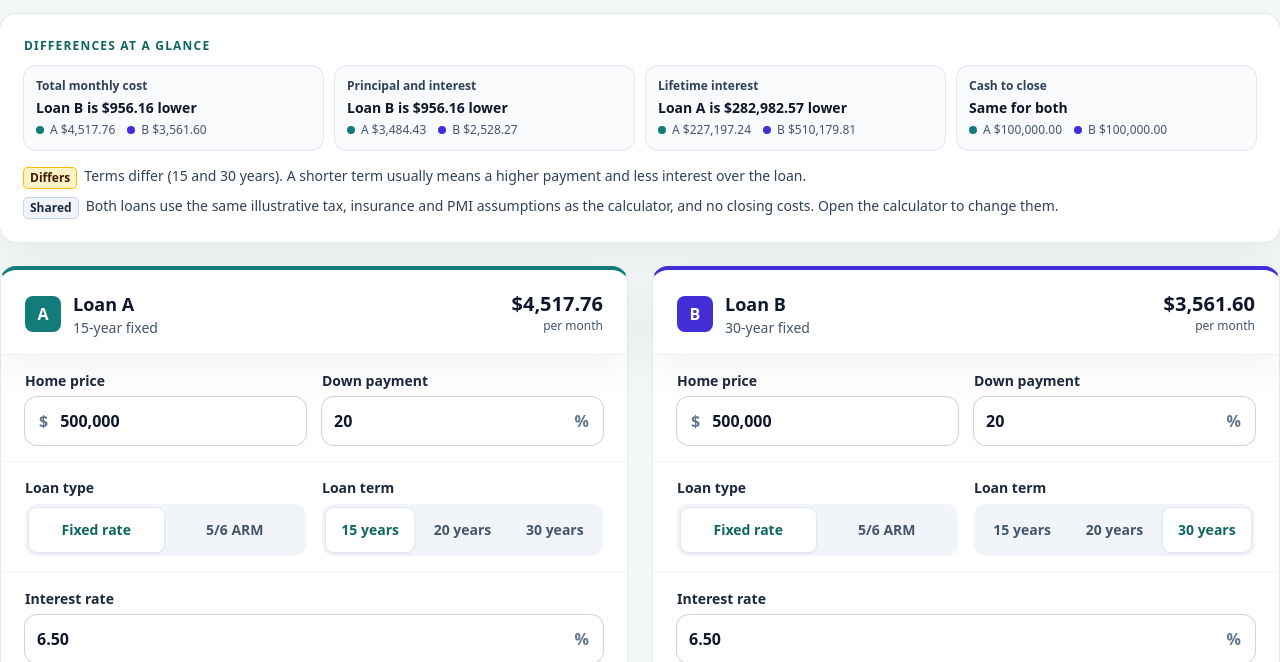
Test: CompareView › shows one loan's field error without touching the other
Replace the text in the field labelled "Interest rate" below "30-year fixed" with "abc". click: (952, 639)
box: left=677, top=619, right=1227, bottom=659
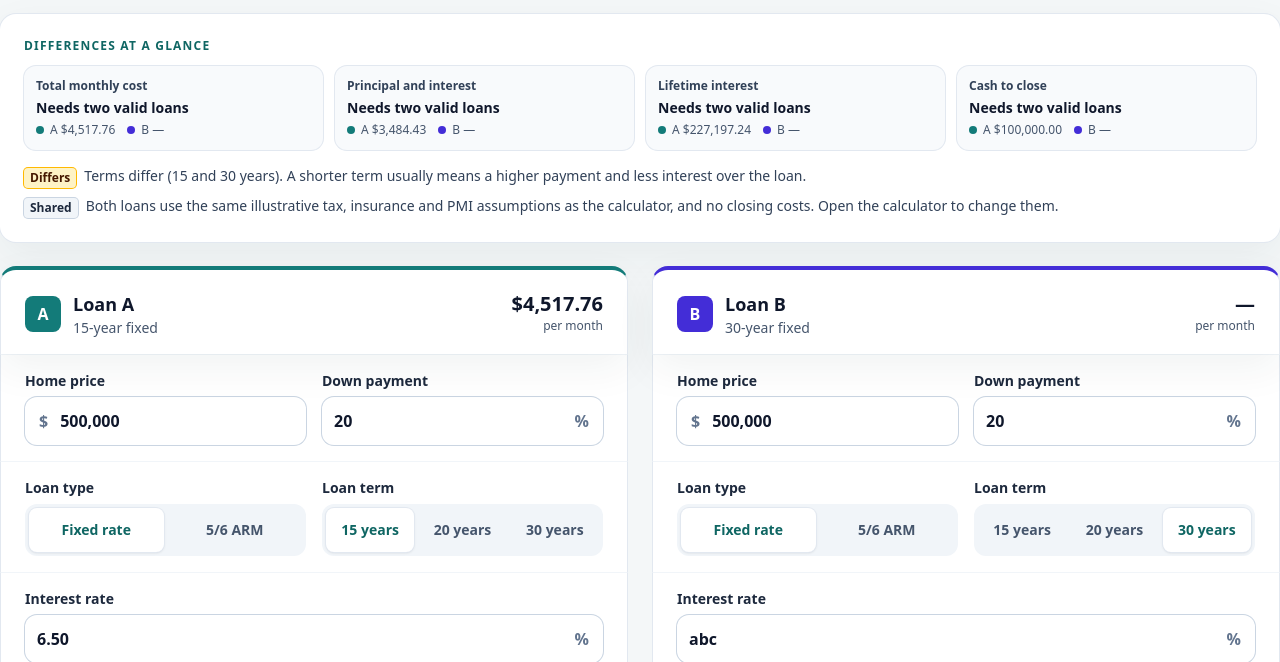
Leave the field labelled "Interest rate" below "30-year fixed", box left=677, top=619, right=1227, bottom=659
(page scrolled)
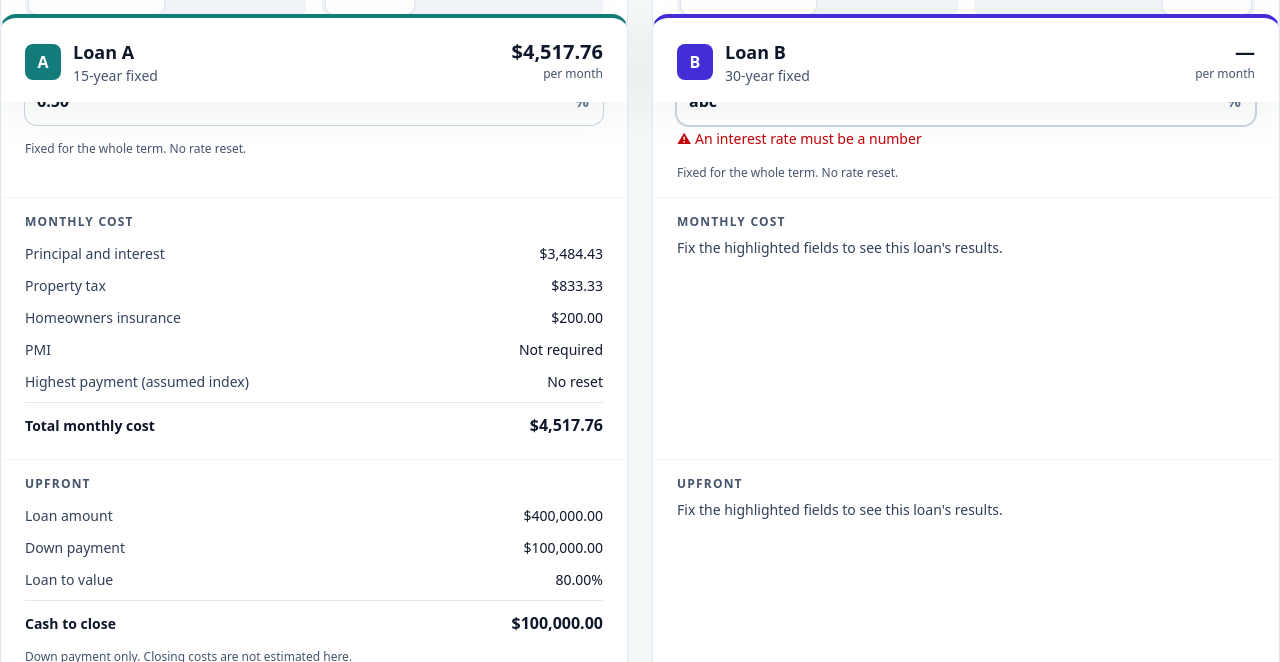
Expected: the text "$3,484.43" is shown, left=539, top=244, right=603, bottom=264
Result: the 1st text "Fix the highlighted fields to see this loan's results." is shown at left=677, top=238, right=1003, bottom=257
Result: the message "⚠ An interest rate must be a number" is shown at left=677, top=129, right=922, bottom=148
